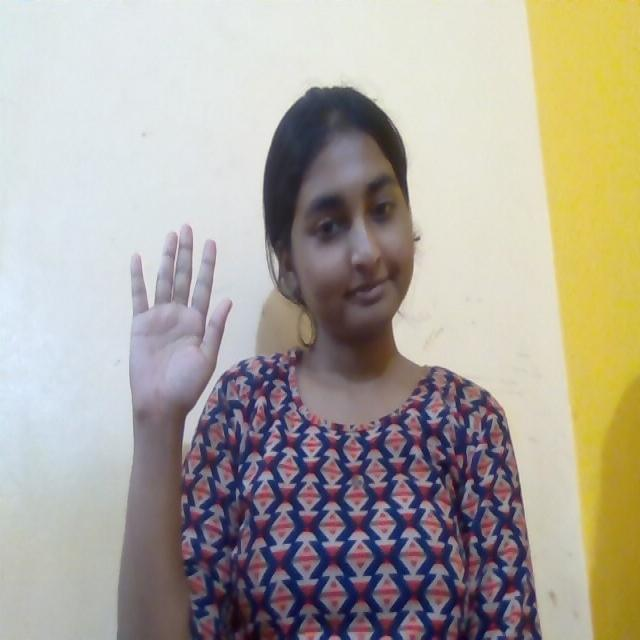Hello: (117, 207, 239, 409)
